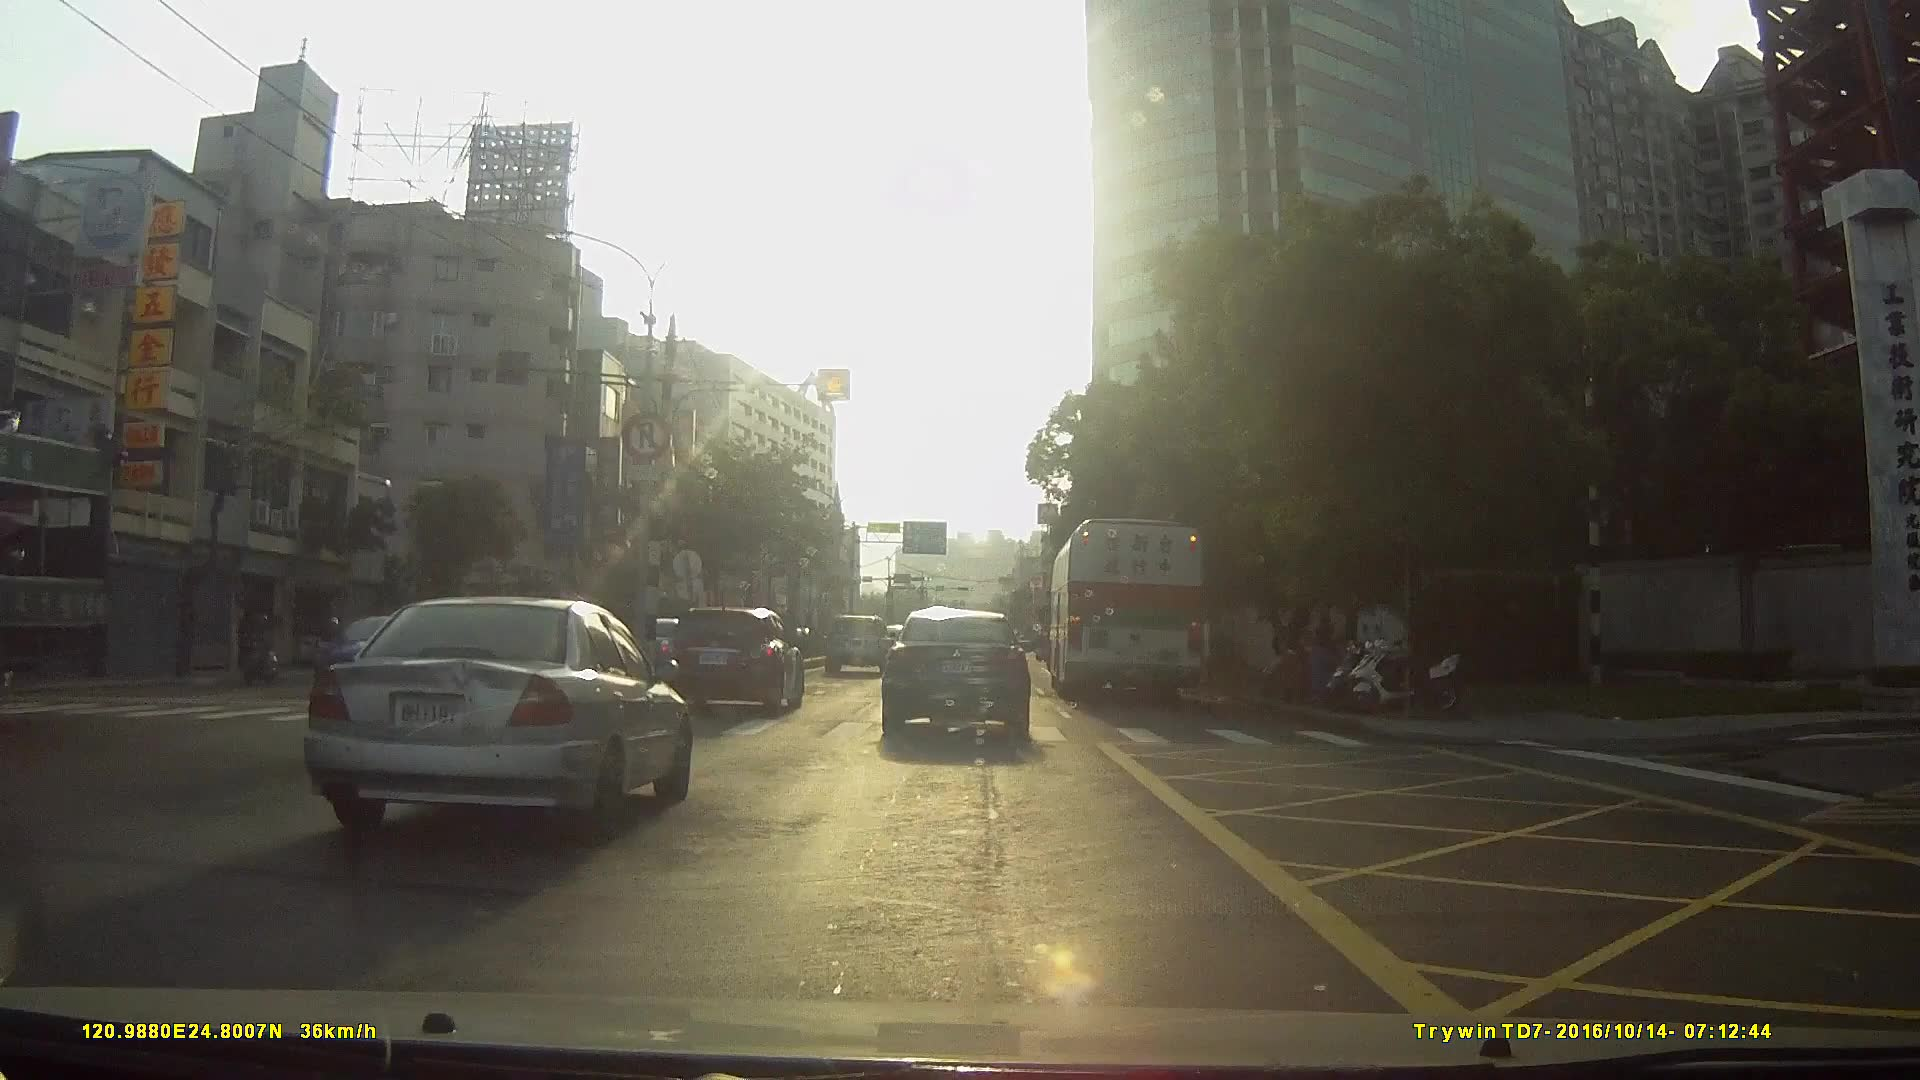rider: (244, 610, 285, 681)
vehicle: (294, 590, 690, 837), (1, 398, 131, 727), (1048, 511, 1209, 707), (881, 606, 1034, 745), (664, 604, 808, 717), (310, 607, 440, 710), (822, 613, 894, 678)
